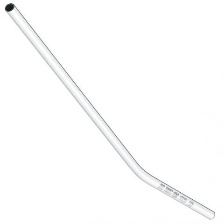drinking_straw: (1, 0, 218, 223)
